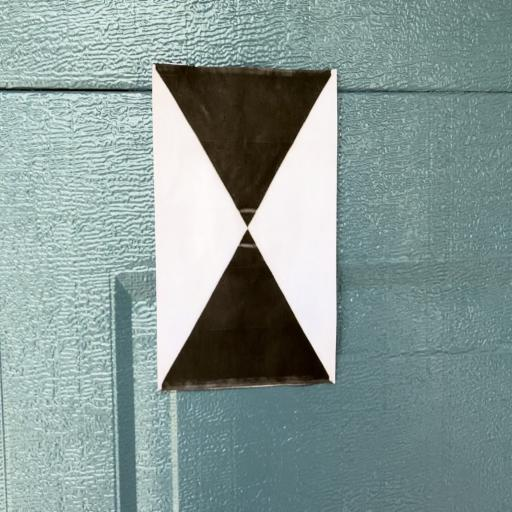target: (154, 64, 336, 384)
